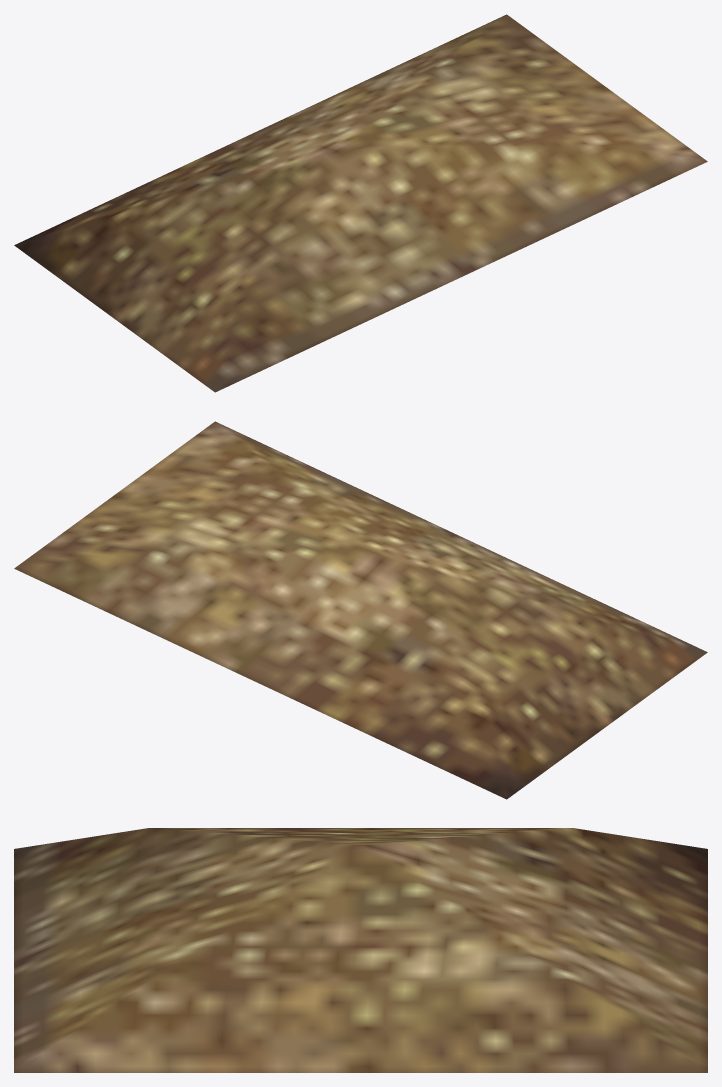
File: OZ_20_wv_grain06A.glb
3 views of the same model, one above another, from view 1: azimuth 30°, elevation 25°; view 2: azimuth 150°, elevation 25°; view 3: azimuth 270°, elevation 25° (orthographic). The views are drawn at different scales.
Visible parts, largest first — view 1: OM_20_wv_grain06A; view 2: OM_20_wv_grain06A; view 3: OM_20_wv_grain06A.
Boxes of the visible parts, x1=… form: OM_20_wv_grain06A: x1=14, y1=14, x2=707, y2=392; OM_20_wv_grain06A: x1=14, y1=421, x2=707, y2=799; OM_20_wv_grain06A: x1=14, y1=828, x2=707, y2=1072.
Size of the model in its own units: 0.5465 by 0.1265 by 0.3864.
Materials: 1 (1 with a texture image).
